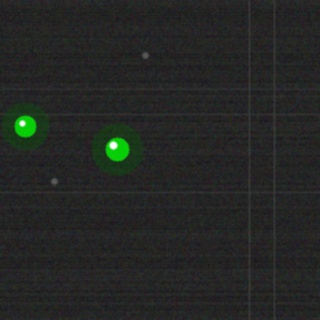green_normal: (103, 135, 131, 163), (12, 113, 38, 139)
